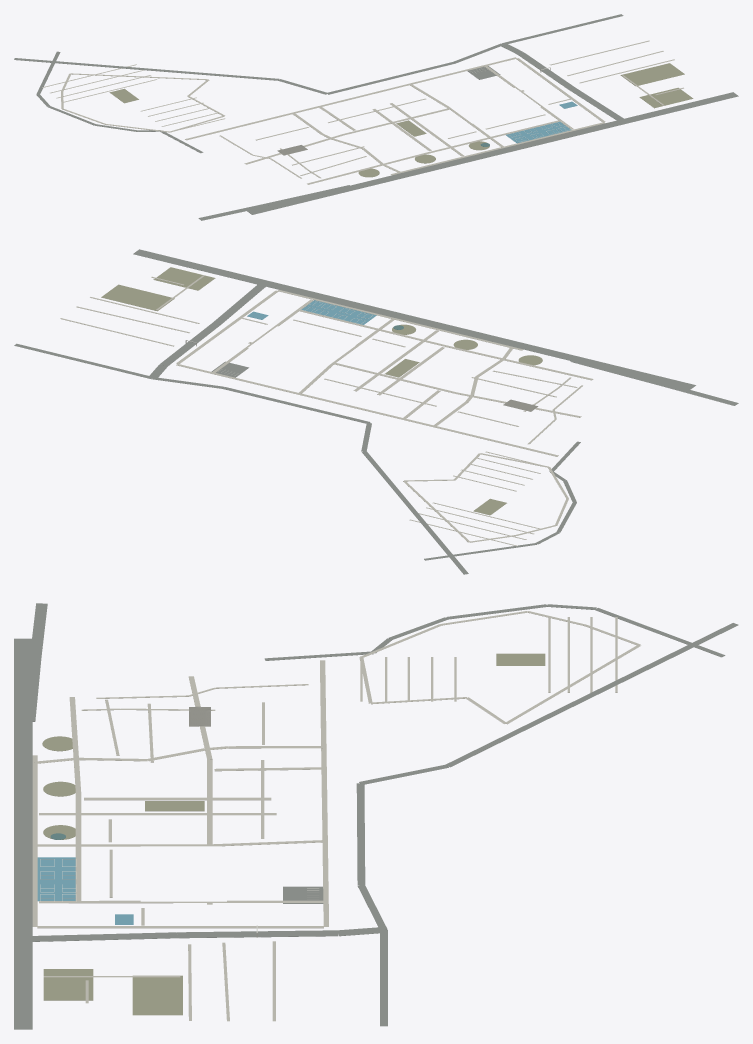
File: shared-00-far.glb
3 renders of one model, top to bottom at view 1: azimuth 30°, elevation 25°; view 2: azimuth 150°, elevation 25°; view 3: azimuth 270°, elevation 25°, orthographic. The views are drawn at different scales.
Visible parts, largest first — view 1: 邯郸路.001, Campus east west road.008, 东区草坪.001, 北侧边界道路.005, 室外球场.001, 新闻学院庭院.001, Campus east west road.015, 国定路.004, 北侧边界道路.007, 国定路.003, 北侧边界道路.009; view 2: 邯郸路.001, 东区草坪.001, Campus east west road.008, 室外球场.001, 北侧边界道路.005, 新闻学院庭院.001, Campus east west road.015; view 3: 邯郸路.001, 东区草坪.001, 室外球场.001, 北侧边界道路.005, Campus east west road.008, 新闻学院庭院.001, 国定路.004, 国定路.003, Campus east west road.015, Campus north south road.023, Campus north south road.022, 北侧边界道路.007 (+4 smaller).
Boxes of the visible parts, box(x1,y1,x2,y2) form: 邯郸路.001: box(247, 92, 738, 214); Campus east west road.008: box(185, 57, 516, 140); 东区草坪.001: box(620, 63, 684, 86); 北侧边界道路.005: box(14, 58, 279, 80); 室外球场.001: box(506, 121, 571, 143); 新闻学院庭院.001: box(639, 87, 693, 108); Campus east west road.015: box(390, 122, 605, 175); 国定路.004: box(517, 52, 574, 89); 北侧边界道路.007: box(327, 62, 454, 94); 国定路.003: box(568, 87, 626, 122); 北侧边界道路.009: box(502, 14, 623, 43); 邯郸路.001: box(133, 249, 695, 389); 东区草坪.001: box(101, 284, 174, 311); Campus east west road.008: box(176, 364, 558, 456); 室外球场.001: box(301, 300, 376, 324); 北侧边界道路.005: box(361, 451, 468, 574); 新闻学院庭院.001: box(153, 267, 215, 290); Campus east west road.015: box(277, 290, 523, 350); 邯郸路.001: box(14, 638, 32, 1029); 东区草坪.001: box(132, 975, 182, 1015); 室外球场.001: box(37, 857, 75, 901); 北侧边界道路.005: box(445, 623, 738, 767); Campus east west road.008: box(320, 660, 328, 926); 新闻学院庭院.001: box(43, 969, 93, 1000); 国定路.004: box(177, 930, 338, 938); 国定路.003: box(23, 932, 177, 941); Campus east west road.015: box(32, 755, 37, 926); Campus north south road.023: box(37, 926, 323, 928); Campus north south road.022: box(39, 900, 326, 903); 北侧边界道路.007: box(356, 783, 365, 885).
Size of what is drawn, in the model's own units: 1038 by 5.46 by 746.
Materials: 11 (1 with a texture image).
